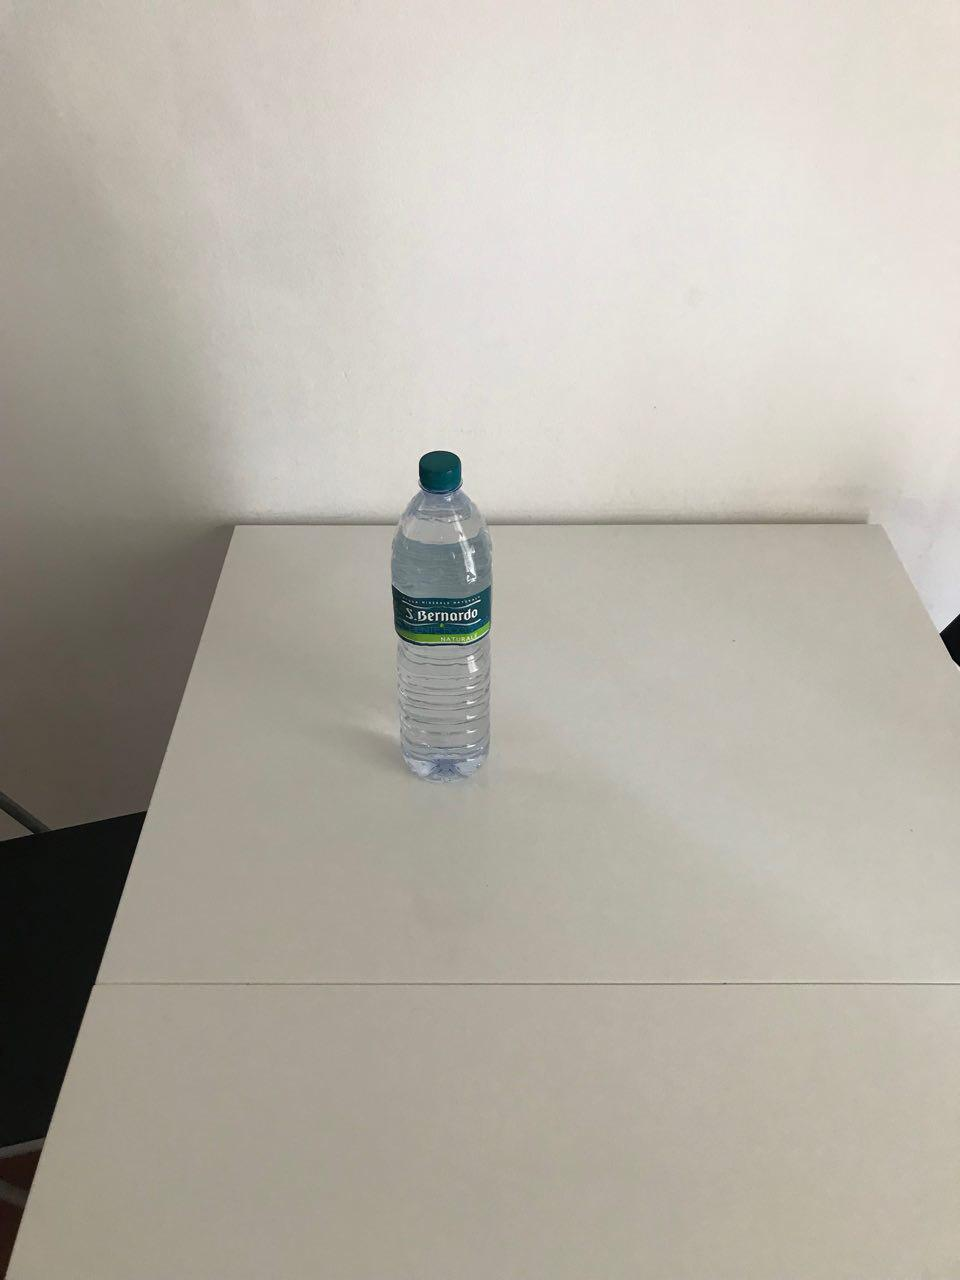san_bernardo: (389, 449, 495, 785)
